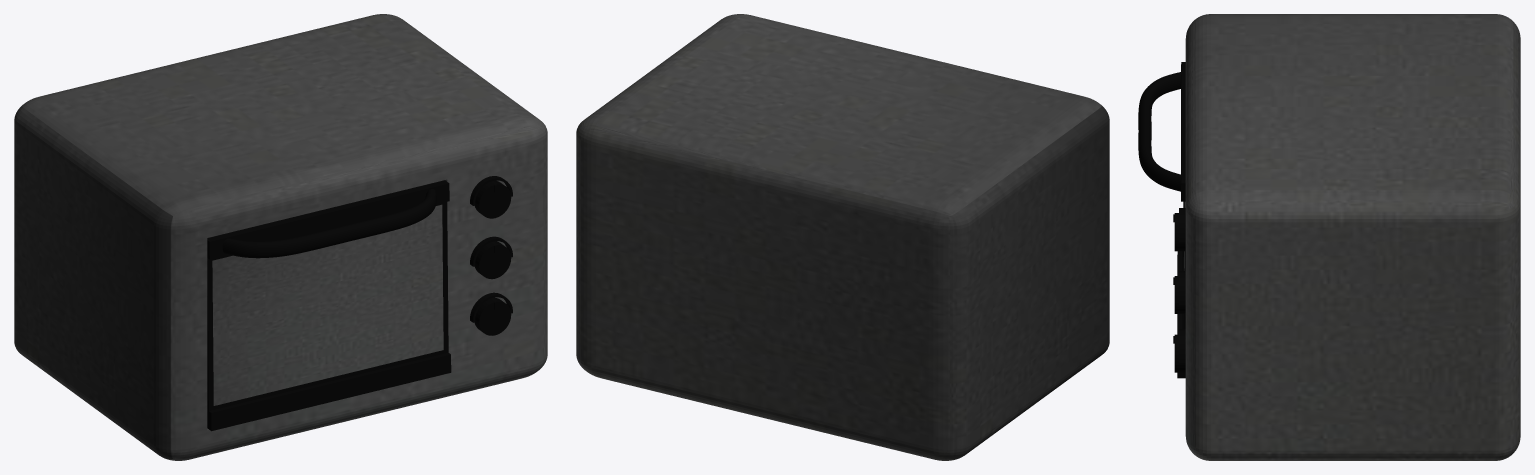
File: lò vi sóng.fbx
The picture shows the model from 3 angles, left to right: view 1: azimuth 30°, elevation 25°; view 2: azimuth 150°, elevation 25°; view 3: azimuth 270°, elevation 25°; orthographic projection. The views are drawn at different scales.
Parts seen in each view (by area): view 1: Cube, Cube.002, Object, Plane, Cylinder.002, Cylinder, Cylinder.001; view 2: Cube; view 3: Cube, Plane, Object.
Part boxes in pixels (x1,y1,x2,y2): Cube: (14, 14, 547, 460); Cube.002: (212, 204, 443, 405); Object: (207, 180, 451, 431); Plane: (222, 189, 436, 258); Cylinder.002: (474, 297, 511, 335); Cylinder: (475, 180, 511, 218); Cylinder.001: (474, 241, 511, 279); Cube: (576, 14, 1109, 460); Cube: (1185, 14, 1520, 460); Plane: (1138, 72, 1181, 191); Object: (1177, 62, 1185, 378).
Size of the model in its own units: 49 by 31 by 39.96.
2 materials, 1 textured.
